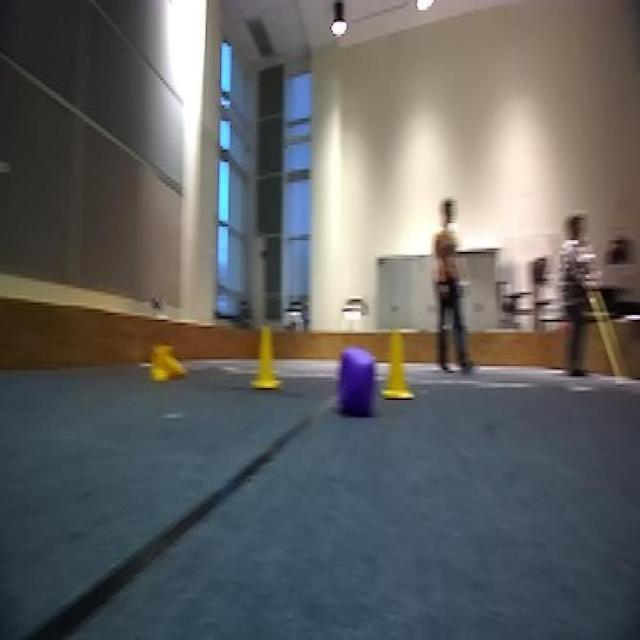frc_cone: (245, 323, 285, 388), (381, 330, 411, 402), (146, 338, 188, 384)
frc_cube: (338, 347, 378, 414)
